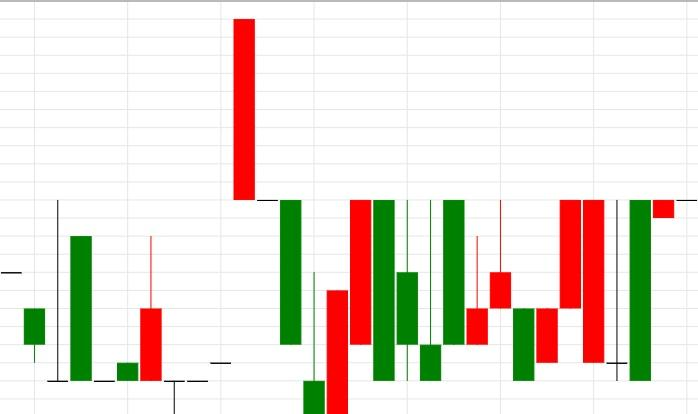bearish_engulfing_fall: (302, 199, 396, 413)
inverse_hammer_rise: (233, 18, 325, 414), (349, 199, 442, 381)
shooting_star_fall: (420, 199, 512, 381)
